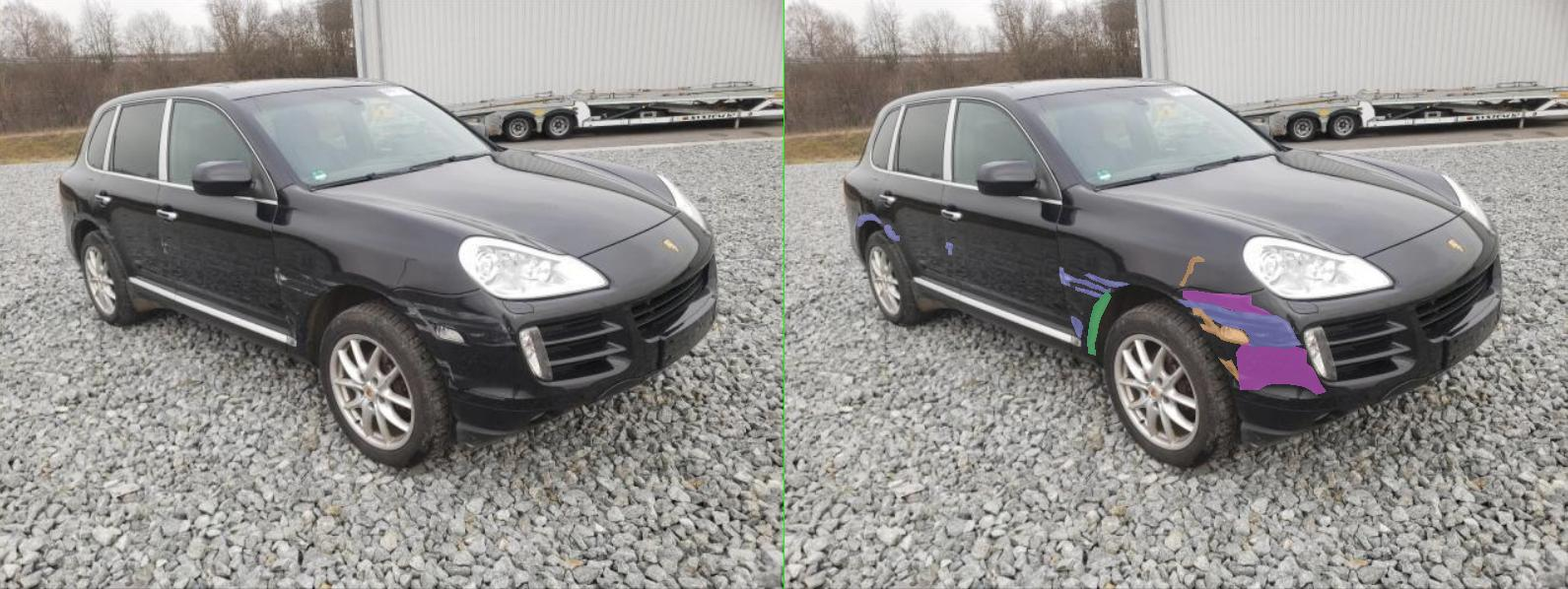Broken part: (606, 291, 653, 355)
Dent: (903, 343, 1083, 394), (797, 291, 978, 316)
Paint chip: (815, 305, 933, 344), (791, 256, 838, 286), (868, 358, 907, 380)
Scratch: (787, 299, 1033, 348), (550, 267, 651, 293), (600, 273, 688, 287), (146, 214, 193, 226), (582, 287, 637, 297), (574, 316, 596, 337), (199, 225, 229, 240), (201, 225, 229, 240), (321, 242, 335, 254)
